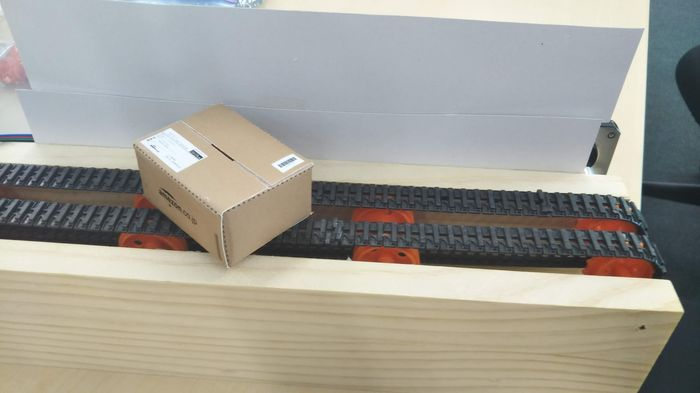box1: (132, 102, 316, 265)
